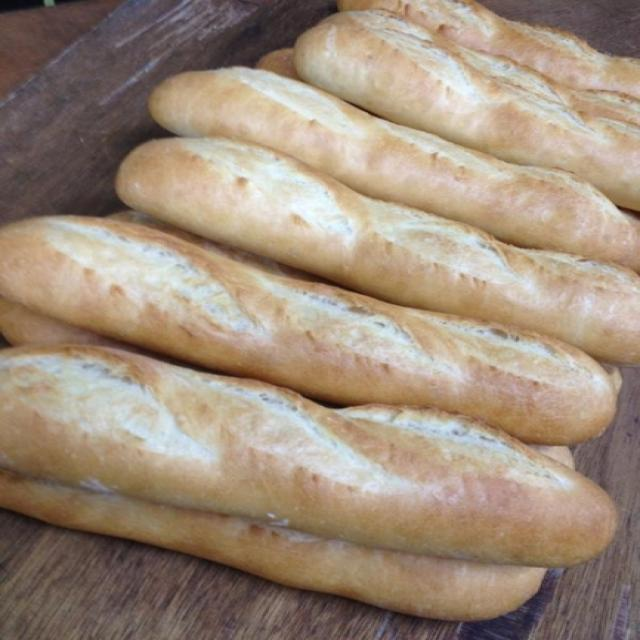Bread: (7, 2, 640, 613)
